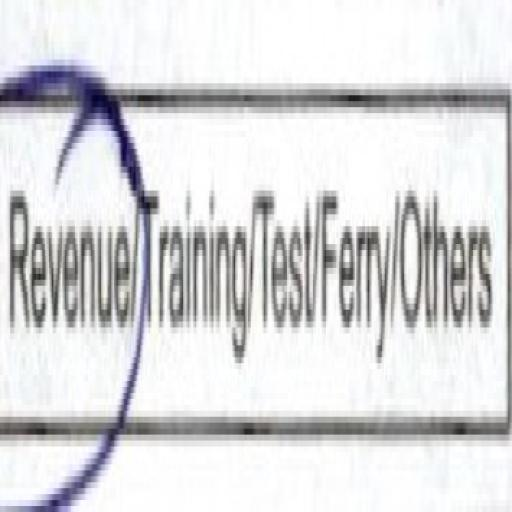check: (1, 44, 144, 512)
